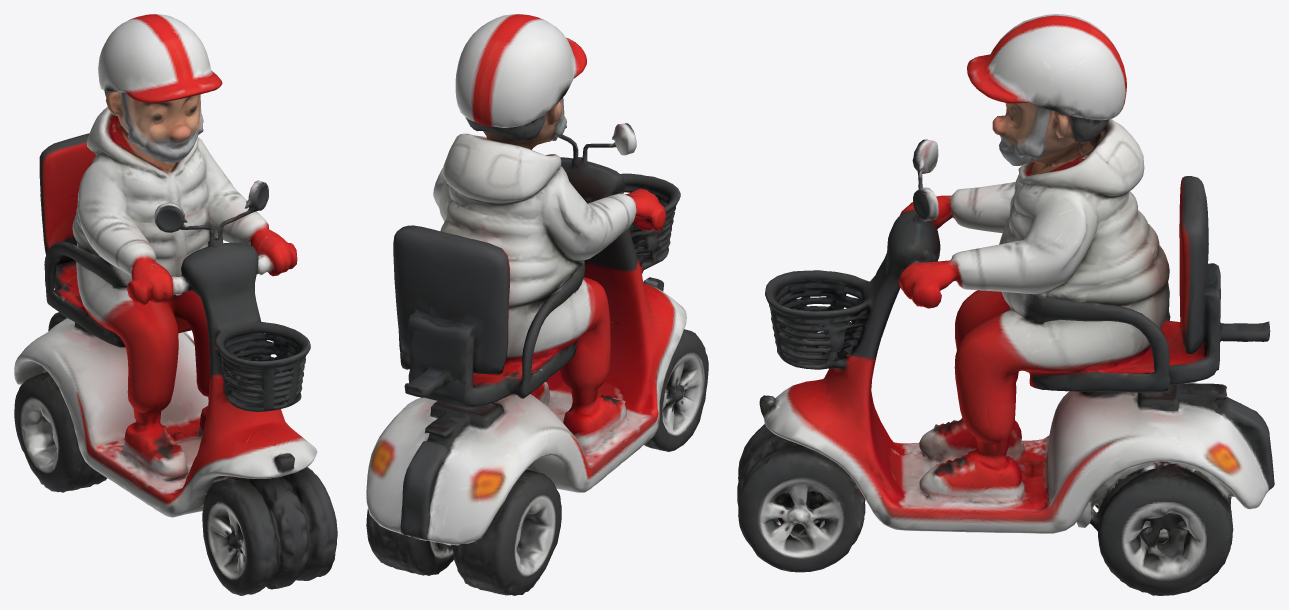
File: low_poly_3D_game_read_1209201233_texture-v1.glb
3 renders of one model, left to right at view 1: azimuth 30°, elevation 25°; view 2: azimuth 150°, elevation 25°; view 3: azimuth 270°, elevation 25°, orthographic. The views are drawn at different scales.
Visible parts, largest first — view 1: Mesh_0; view 2: Mesh_0; view 3: Mesh_0.
Part boxes in pixels (left/top/right/bottom): Mesh_0: left=14, top=14, right=337, bottom=595; Mesh_0: left=366, top=14, right=708, bottom=595; Mesh_0: left=737, top=14, right=1274, bottom=595.
Size of the model in its own units: 0.5155 by 1.5 by 1.34.
1 material, 1 textured.
